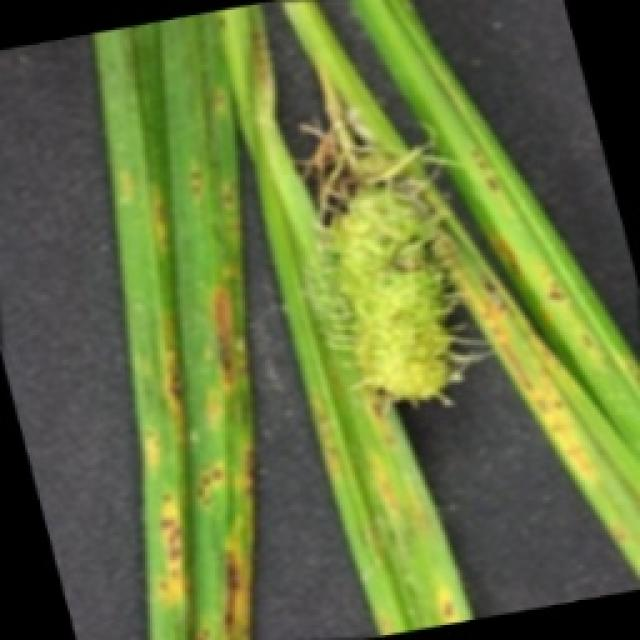Elderberry_rust: (290, 70, 492, 418)
